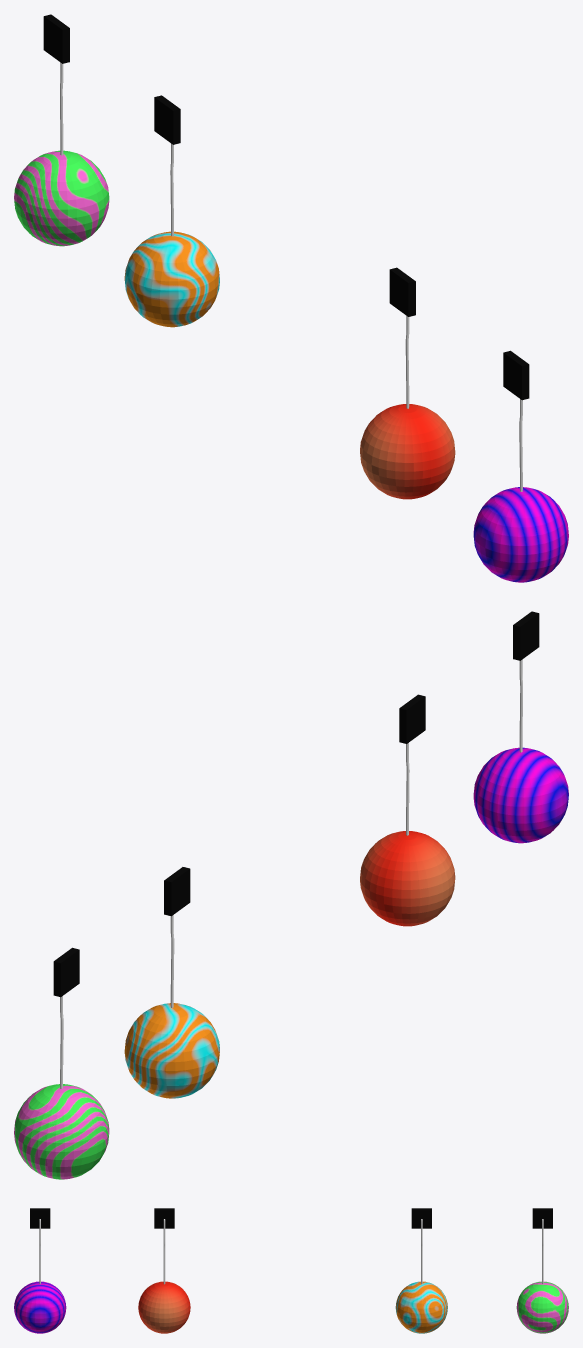
File: Toys.fbx
3 views of the same model, one above another, from view 1: azimuth 30°, elevation 25°; view 2: azimuth 150°, elevation 25°; view 3: azimuth 270°, elevation 25° (orthographic). The views are drawn at different scales.
Visible parts, largest first — view 1: Ball, Ball.003, Ball.001, Ball.002, Magnet, Magnet.003, Magnet.002, Magnet.001; view 2: Ball.002, Ball.003, Ball, Ball.001, Magnet, Magnet.003, Magnet.001, Magnet.002; view 3: Ball.001, Ball, Ball.003, Ball.002, Magnet, Magnet.001, Magnet.002, Magnet.003, Rope.001.
Part boxes in pixels (<box>): Ball: <box>473,487,568,582</box>; Ball.003: <box>14,150,109,246</box>; Ball.001: <box>360,404,455,499</box>; Ball.002: <box>124,231,219,327</box>; Magnet: <box>503,350,529,400</box>; Magnet.003: <box>43,14,69,63</box>; Magnet.002: <box>154,95,180,144</box>; Magnet.001: <box>389,267,415,316</box>; Ball.002: <box>124,1003,219,1098</box>; Ball.003: <box>14,1084,109,1179</box>; Ball: <box>473,747,568,843</box>; Ball.001: <box>360,831,455,926</box>; Magnet: <box>513,611,539,660</box>; Magnet.003: <box>53,947,79,997</box>; Magnet.001: <box>399,694,425,743</box>; Magnet.002: <box>164,867,190,916</box>; Ball.001: <box>138,1281,190,1333</box>; Ball: <box>14,1281,66,1333</box>; Ball.003: <box>516,1281,568,1333</box>; Ball.002: <box>395,1281,447,1333</box>; Magnet: <box>30,1208,50,1228</box>; Magnet.001: <box>154,1208,174,1228</box>; Magnet.002: <box>411,1208,431,1228</box>; Magnet.003: <box>532,1208,552,1228</box>; Rope.001: <box>163,1219,165,1284</box>.
Bounding box in the file's own units: 0.082 × 0.8698 × 0.2089.
Materials: 5 (4 with a texture image).
